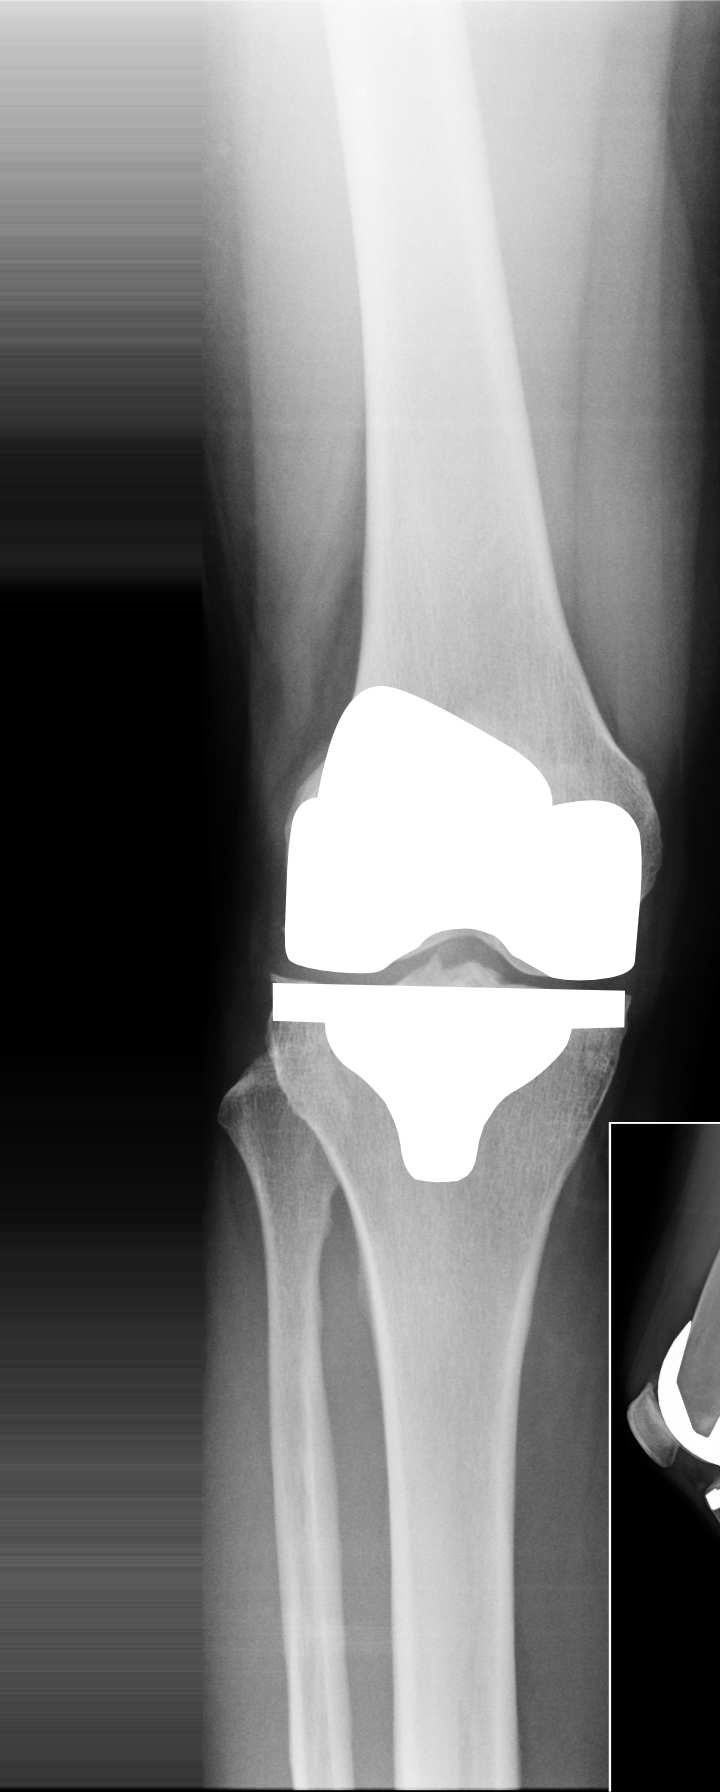Knee-Triathlon-Stryker: (259, 663, 646, 1187), (653, 1298, 711, 1533)
